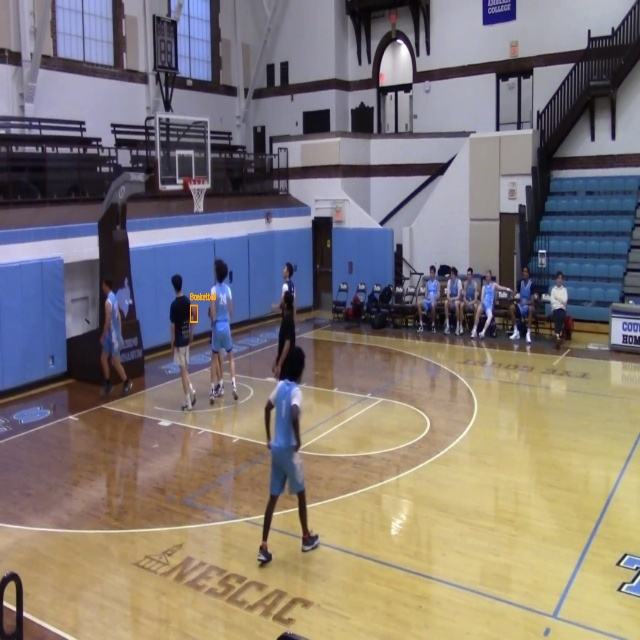Basketball: (190, 305, 198, 322)
